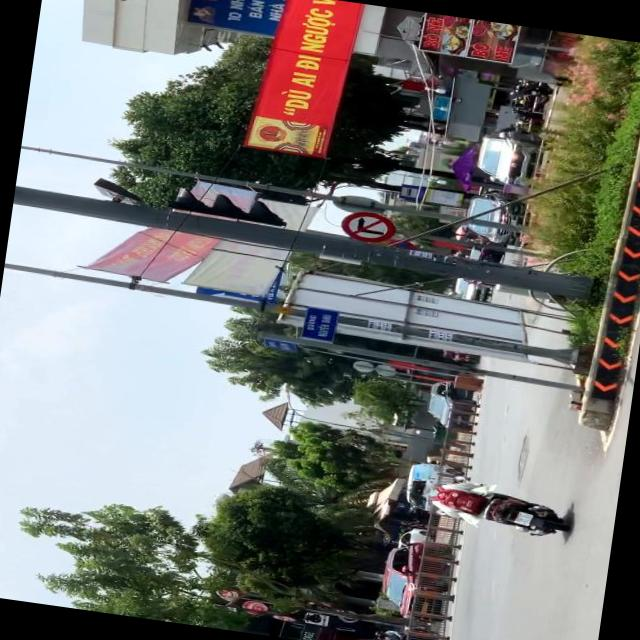P-123b: (337, 210, 396, 246)
